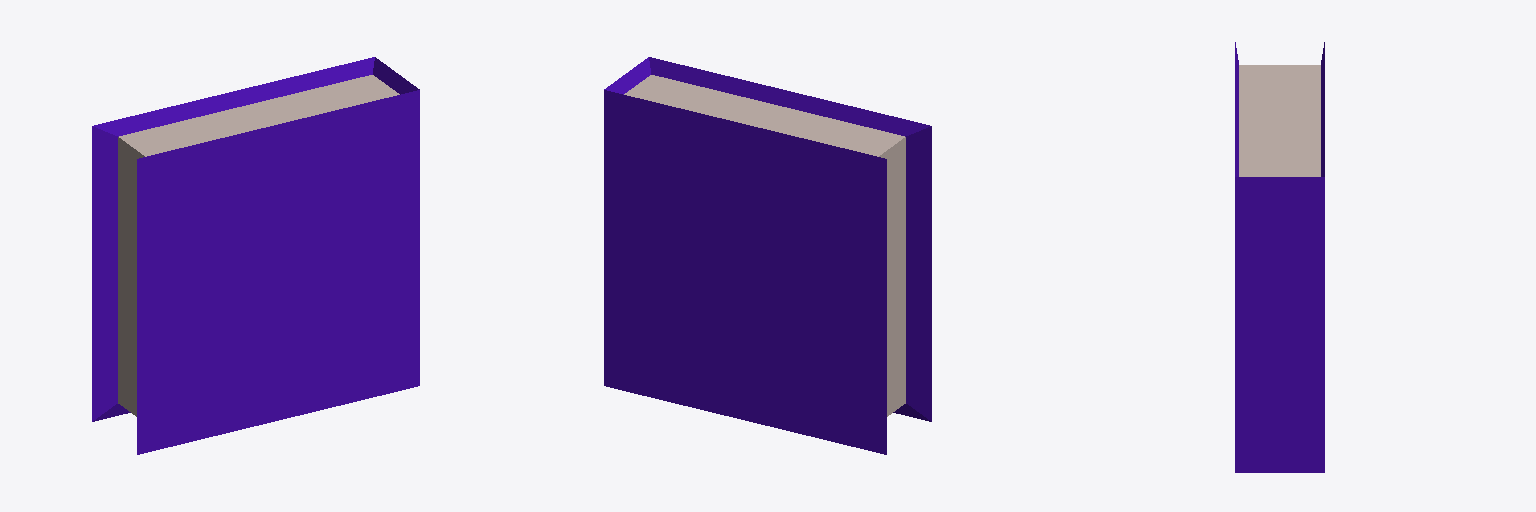
The model's file is Book_004.obj.
The picture shows the model from 3 angles: view 1: azimuth 30°, elevation 25°; view 2: azimuth 150°, elevation 25°; view 3: azimuth 270°, elevation 25°; orthographic projection.
Visible parts, largest first — view 1: Book_4_Cube.008; view 2: Book_4_Cube.008; view 3: Book_4_Cube.008.
Boxes of the visible parts, x1,y1,x2,y2 form: Book_4_Cube.008: [92, 57, 419, 454]; Book_4_Cube.008: [604, 57, 931, 454]; Book_4_Cube.008: [1235, 42, 1324, 472].
Bounding box in the file's own units: 2 × 2 × 0.5511.